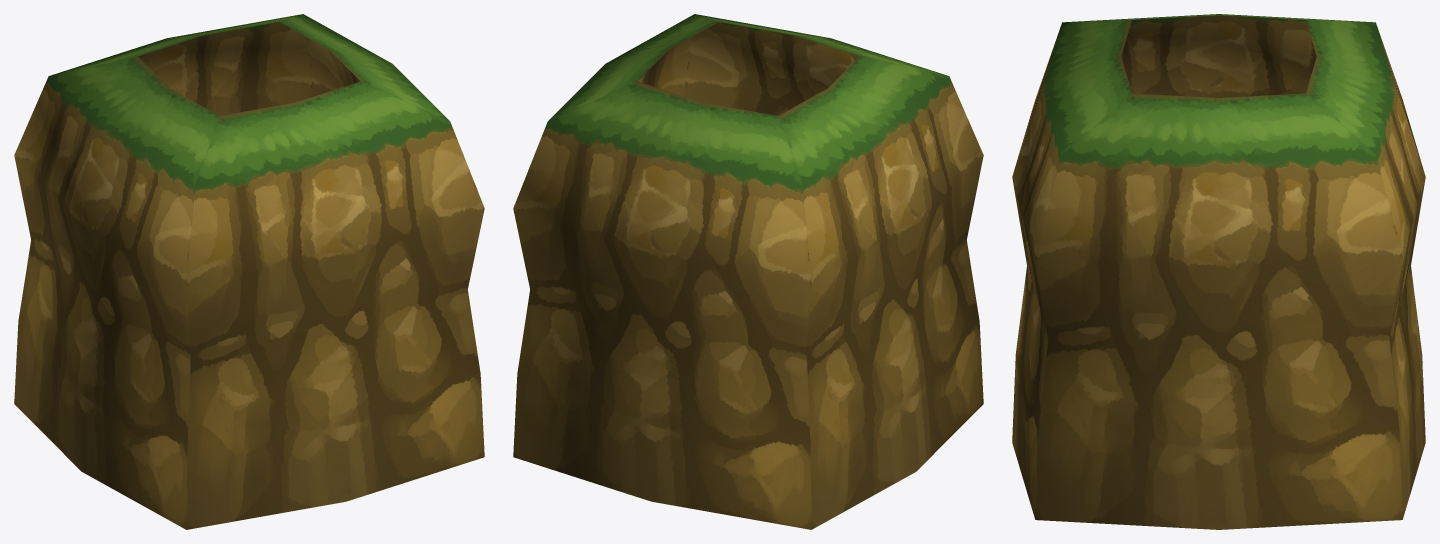
The model's file is cliff.FBX.
The picture shows the model from 3 angles, left to right: view 1: azimuth 30°, elevation 25°; view 2: azimuth 150°, elevation 25°; view 3: azimuth 270°, elevation 25°; orthographic projection. The views are drawn at different scales.
Visible parts, largest first — view 1: Object002; view 2: Object002; view 3: Object002.
Boxes of the visible parts, <box> form: Object002: <box>14,14,484,529</box>; Object002: <box>513,14,983,529</box>; Object002: <box>1012,14,1425,529</box>.
Bounding box in the file's own units: 1908 × 1964 × 1908.
Materials: 1 (1 with a texture image).
